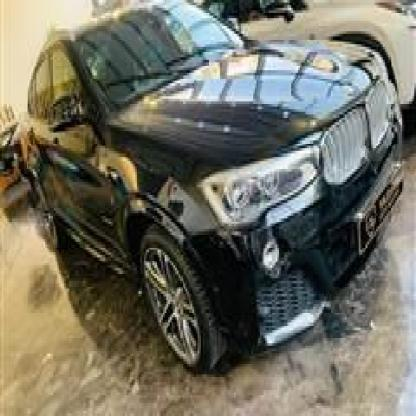Car: (22, 5, 412, 382), (189, 0, 416, 130)
